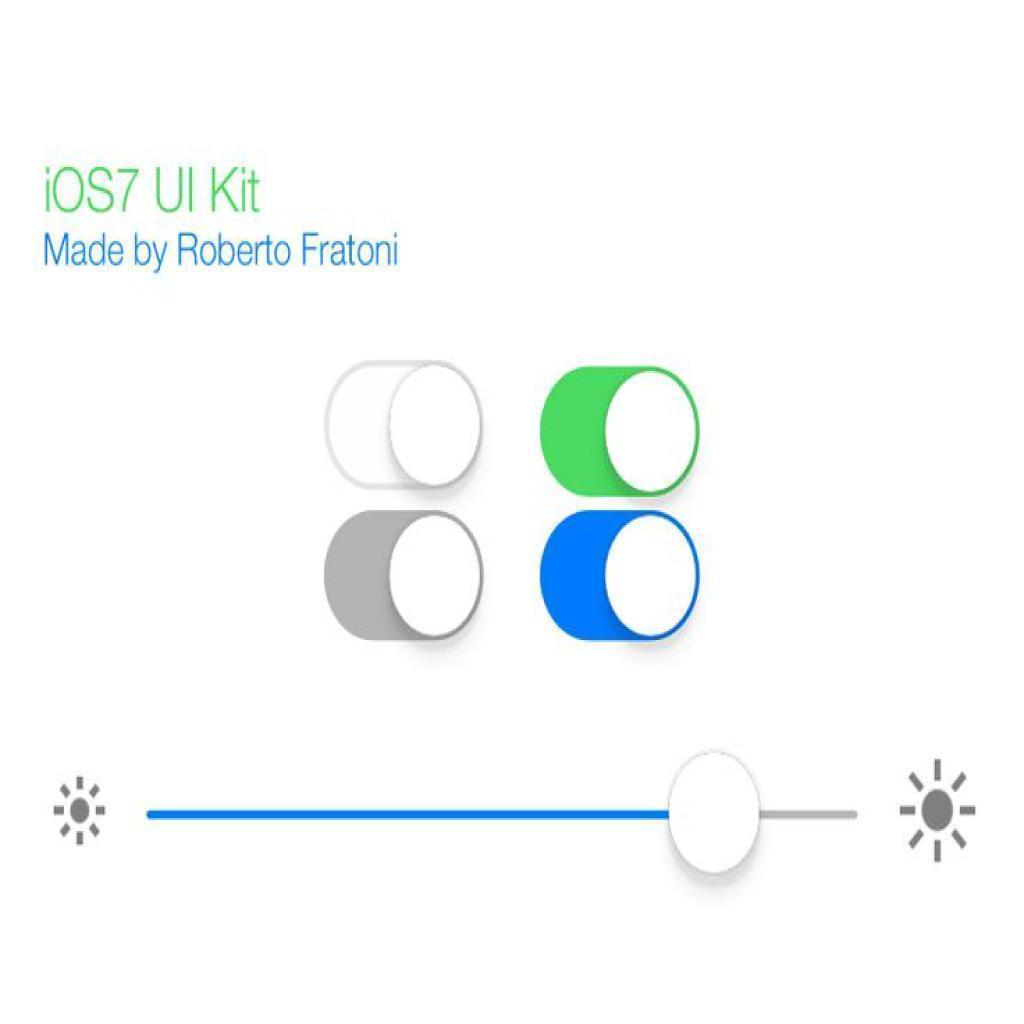switch: (322, 508, 489, 646), (541, 363, 700, 497), (544, 510, 700, 645), (324, 361, 481, 485)
